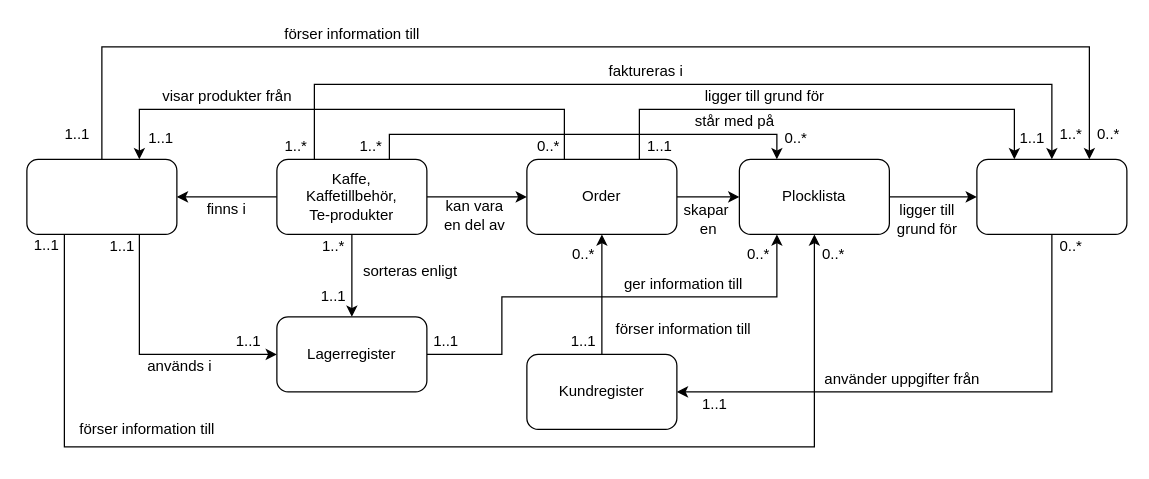
Some shapes in this 1149 by 479 pixel diagram are drawn without their labels. Here are the shapes that lost their labels. From the top down, the centre of each, then its label:
At pixel 101 196: "Produktregister".
At pixel 1051 196: "Faktura".
